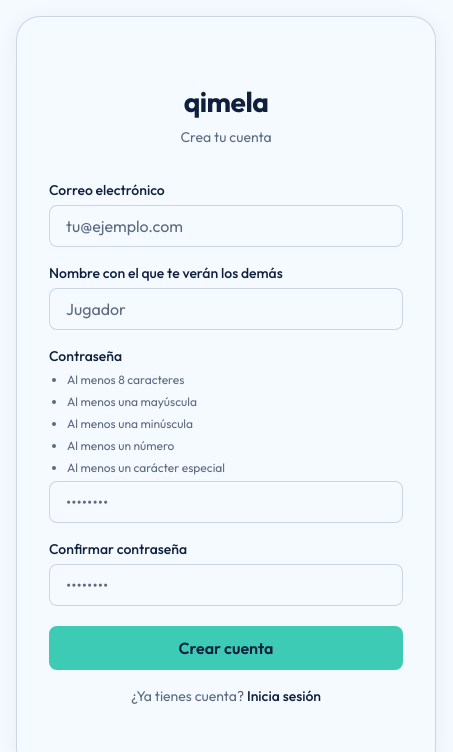
Test: RegisterPage › shows only the password requirements that are still unmet
The width and height of the screenshot is (453, 752).
Expected: the list item "Al menos 8 caracteres" is shown, x1=67 y1=372 x2=184 y2=387
Expected: the list item "Al menos una mayúscula" is shown, x1=67 y1=394 x2=197 y2=409
In the password field labelled "Contraseña": (226, 502) x1=49 y1=481 x2=403 y2=523, type "Password1!"
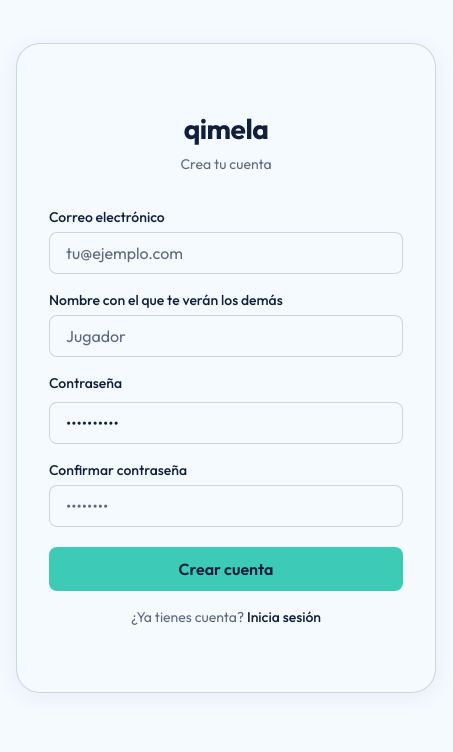
Now the list item "Al menos 8 caracteres" is gone
Now the list item "Al menos una mayúscula" is gone
Now the list item "Al menos una minúscula" is gone
